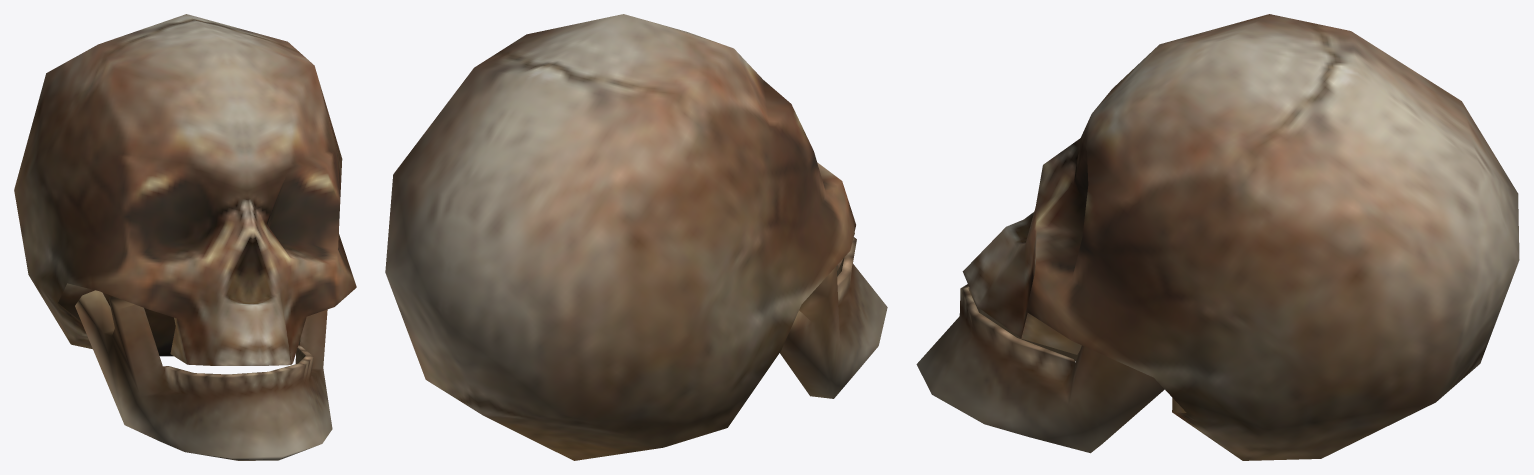
The model's file is skeletons_skull.fbx.
3 renders of one model, left to right at view 1: azimuth 30°, elevation 25°; view 2: azimuth 150°, elevation 25°; view 3: azimuth 270°, elevation 25°, orthographic. The views are drawn at different scales.
Parts seen in each view (by area): view 1: skeletons_skull; view 2: skeletons_skull; view 3: skeletons_skull.
Boxes of the visible parts, x1,y1,x2,y2 form: skeletons_skull: [14, 14, 356, 460]; skeletons_skull: [385, 14, 887, 460]; skeletons_skull: [916, 14, 1519, 460].
Bounding box in the file's own units: 17.08 × 18.68 × 25.86.
